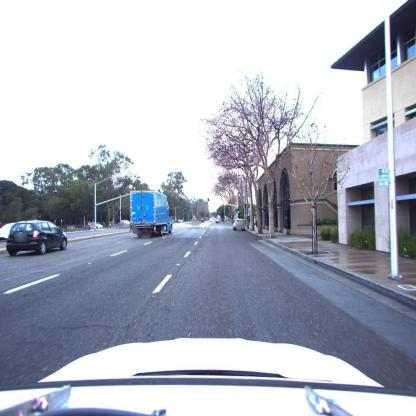car: (5, 221, 67, 256), (0, 222, 15, 242), (232, 217, 247, 232), (87, 222, 103, 230), (214, 216, 222, 224)
truck: (130, 191, 173, 237)
